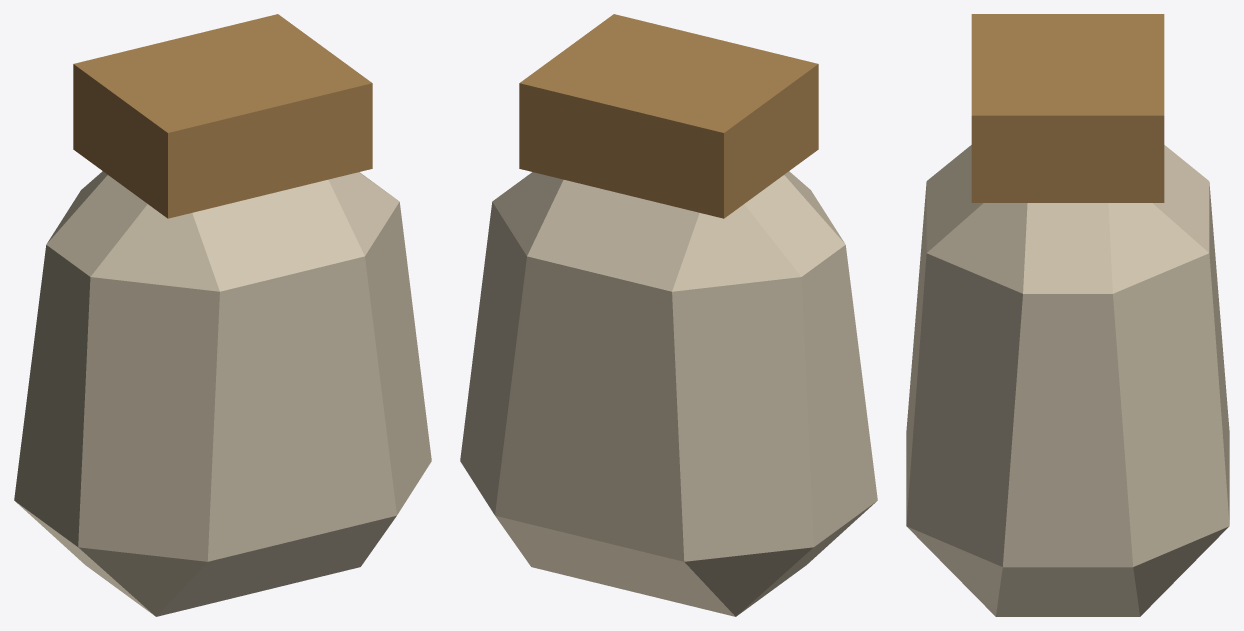
The model's file is flour.fbx.
The picture shows the model from 3 angles, left to right: view 1: azimuth 30°, elevation 25°; view 2: azimuth 150°, elevation 25°; view 3: azimuth 270°, elevation 25°; orthographic projection.
Visible parts, largest first — view 1: flour; view 2: flour; view 3: flour.
Part boxes in pixels (x1=…): flour: x1=14, y1=14, x2=431, y2=616; flour: x1=460, y1=14, x2=877, y2=616; flour: x1=906, y1=14, x2=1229, y2=616.
Bounding box in the file's own units: 0.5185 × 0.69 × 0.4032.
